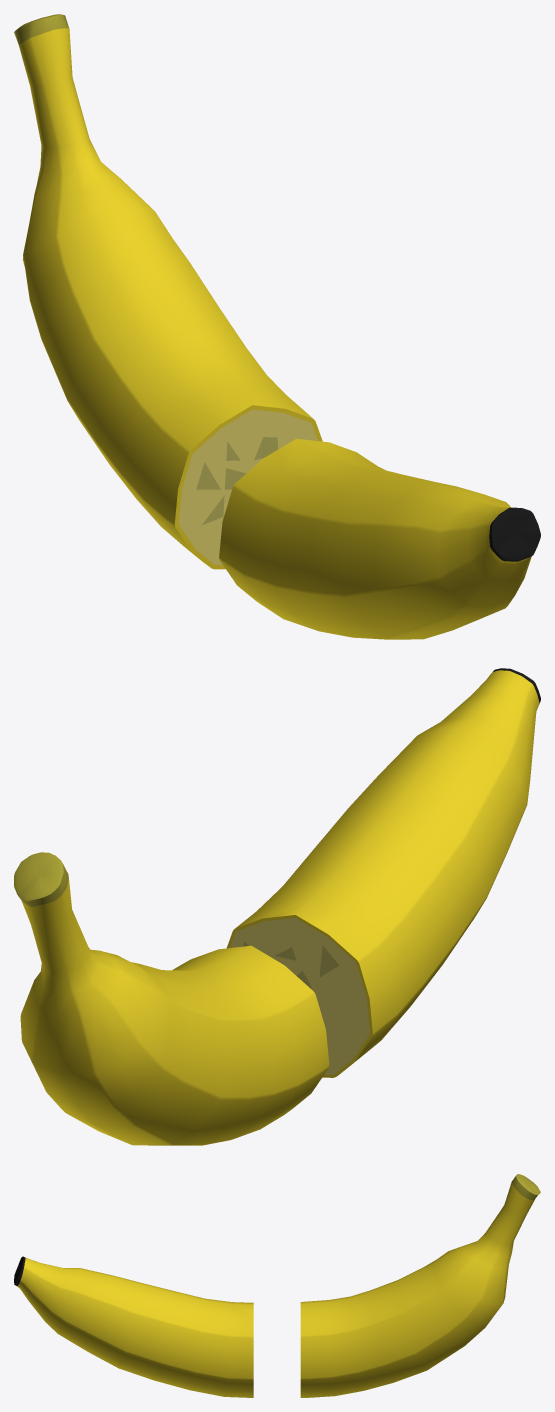
The model's file is banan_slice.fbx.
3 renders of one model, top to bottom at view 1: azimuth 30°, elevation 25°; view 2: azimuth 150°, elevation 25°; view 3: azimuth 270°, elevation 25°, orthographic. The views are drawn at different scales.
Parts seen in each view (by area): view 1: banan_half1, banan_half2; view 2: banan_half2, banan_half1; view 3: banan_half1, banan_half2.
Part boxes in pixels (x1,y1,x2,y2): banan_half1: (14, 14, 322, 569); banan_half2: (219, 438, 540, 639); banan_half2: (227, 668, 540, 1077); banan_half1: (14, 852, 329, 1145); banan_half1: (300, 1174, 540, 1397); banan_half2: (14, 1256, 253, 1397).
Bounding box in the file's own units: 10.28 × 25.38 × 56.22.
